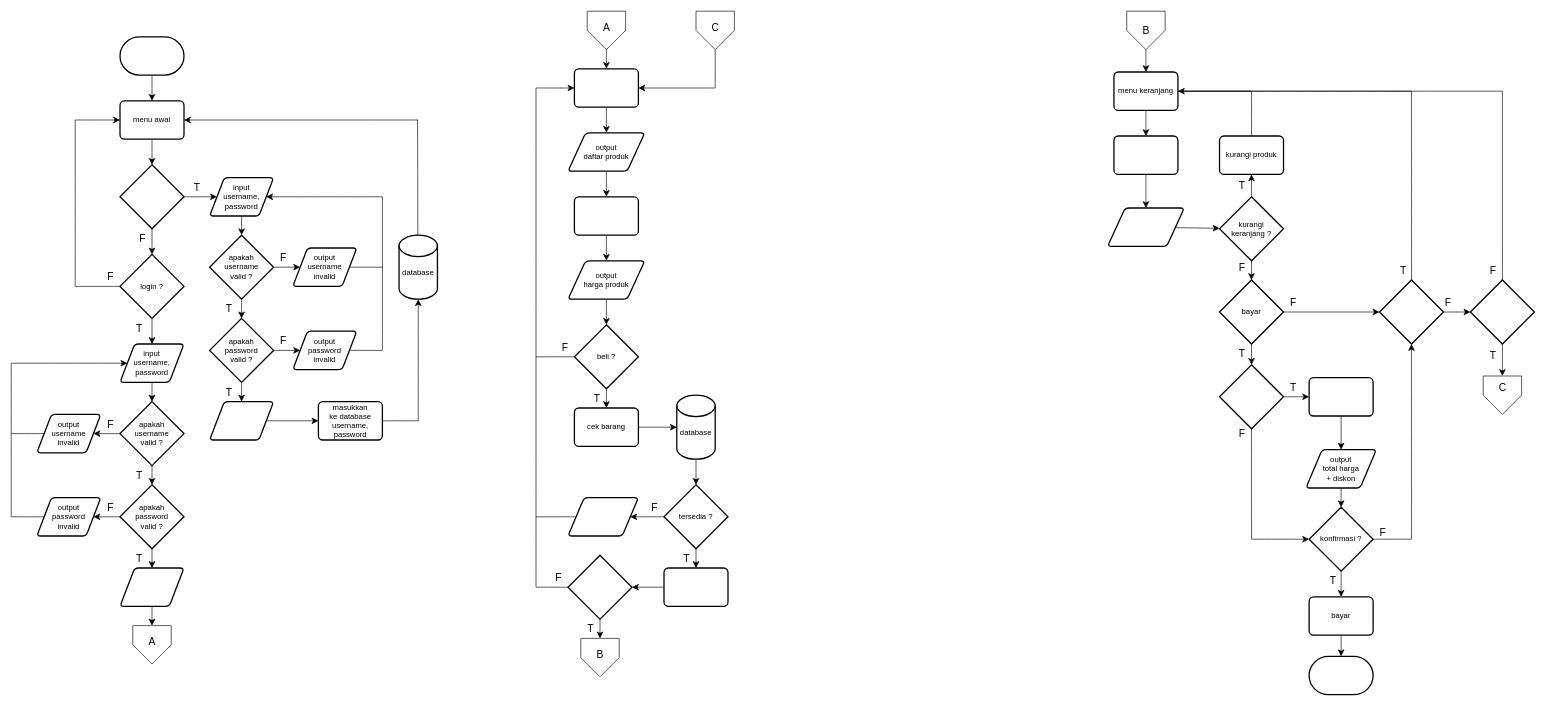
This 1546x707 diagram has some shape labels left out. Each missing label, with the centre of its shape:
"cukup ?" belongs at (x=599, y=587).
"daftar produk" belongs at (x=606, y=88).
"diskon" belongs at (x=1251, y=396).
"end" belongs at (x=1340, y=675).
"hitung total harga" belongs at (x=1145, y=155).
"hitung total harga + diskon" belongs at (x=1340, y=396).
"kembali ke daftar produk?" belongs at (x=1502, y=311).
"kembali ke menu keranjang ?" belongs at (x=1411, y=311).
"masuk keranjang" belongs at (x=695, y=587).
"output akun berhasil dibuat" belongs at (x=241, y=420).
"output berhasil masuk" belongs at (x=151, y=587).
"output stock habis" belongs at (x=603, y=516).
"output total harga" belongs at (x=1146, y=227).
"pilih produk" belongs at (x=606, y=216).
"sign up ?" belongs at (x=151, y=196).
"start" belongs at (x=151, y=56).
